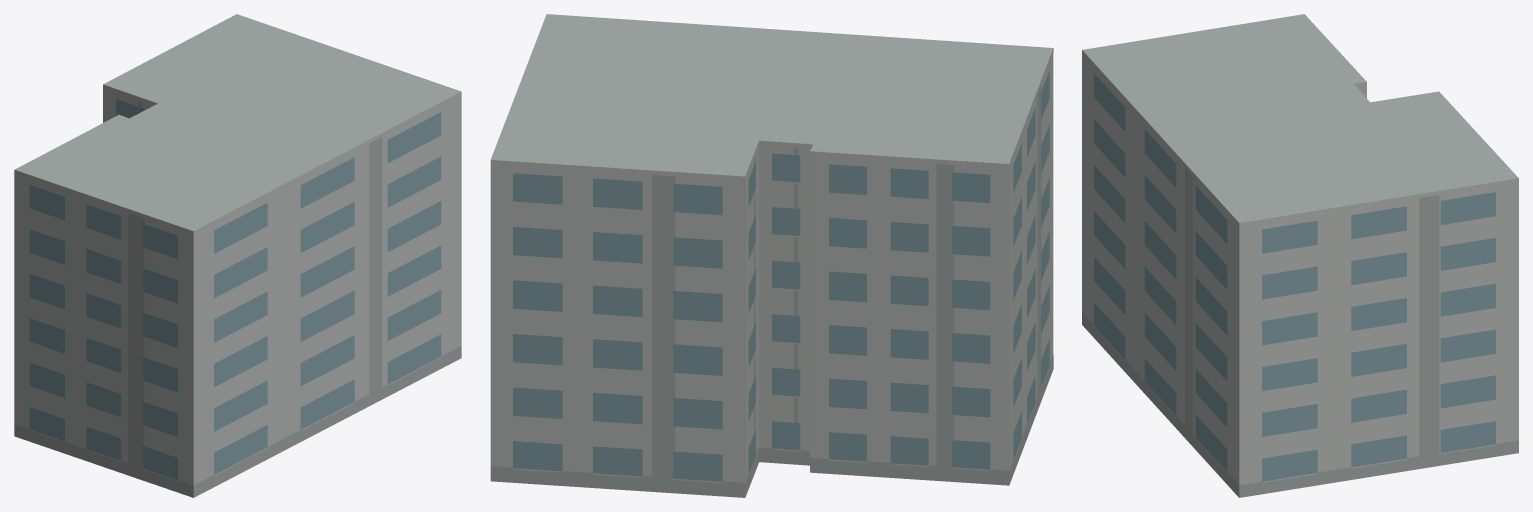
Rendered from survey-upis-32834166.glb.
3 views of the same model, side by side, from view 1: azimuth 30°, elevation 25°; view 2: azimuth 150°, elevation 25°; view 3: azimuth 270°, elevation 25° (orthographic). The views are drawn at different scales.
Parts seen in each view (by area): view 1: survey-upis-32834166.tmp; view 2: survey-upis-32834166.tmp; view 3: survey-upis-32834166.tmp.
Boxes of the visible parts, box(x1,y1,x2,y2) form: survey-upis-32834166.tmp: box(14, 14, 461, 497); survey-upis-32834166.tmp: box(490, 14, 1053, 497); survey-upis-32834166.tmp: box(1082, 14, 1518, 497).
Size of the model in its own units: 27.89 by 17.1 by 24.63.
